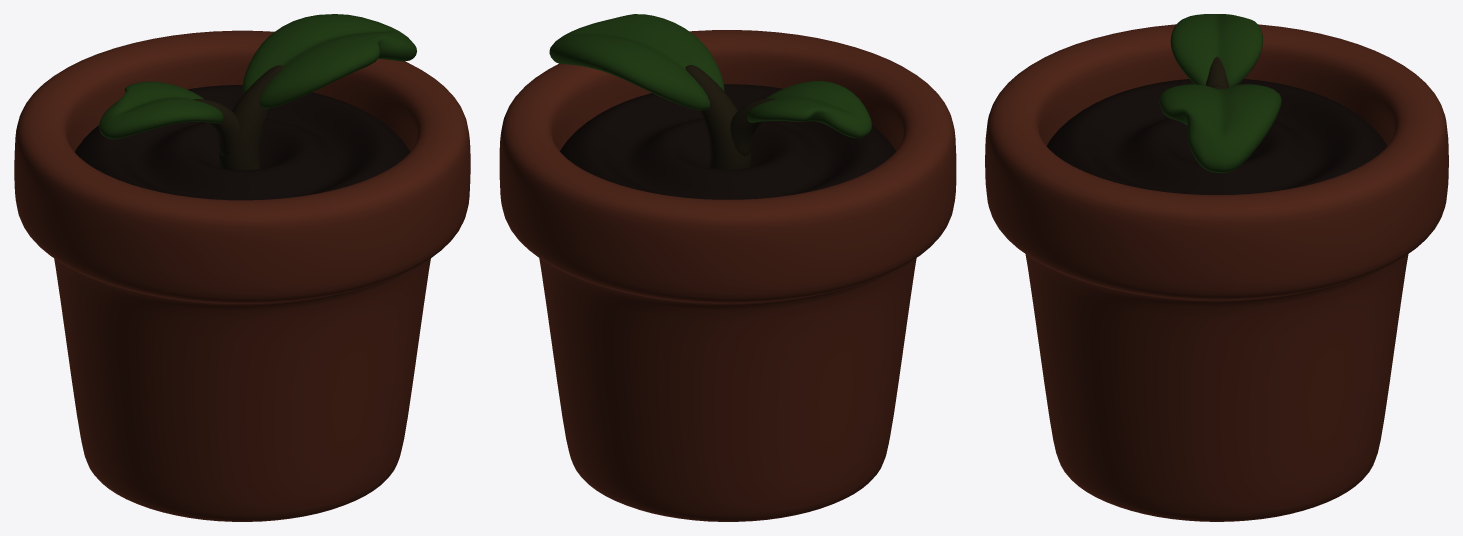
The model's file is Plant_Leafy_Sprout_Pot.obj.
The picture shows the model from 3 angles, left to right: view 1: azimuth 30°, elevation 25°; view 2: azimuth 150°, elevation 25°; view 3: azimuth 270°, elevation 25°; orthographic projection.
Parts seen in each view (by area): view 1: Plant_Leafy_Sprout_Pot_Body, Plant_Leafy_Sprout_Pot_Soil, Plant_Leafy_Sprout_Pot_Leaf01, Plant_Leafy_Sprout_Pot_Leaf02; view 2: Plant_Leafy_Sprout_Pot_Body, Plant_Leafy_Sprout_Pot_Soil, Plant_Leafy_Sprout_Pot_Leaf01, Plant_Leafy_Sprout_Pot_Leaf02; view 3: Plant_Leafy_Sprout_Pot_Body, Plant_Leafy_Sprout_Pot_Soil, Plant_Leafy_Sprout_Pot_Leaf01, Plant_Leafy_Sprout_Pot_Leaf02.
Part boxes in pixels (x1=…): Plant_Leafy_Sprout_Pot_Body: x1=14, y1=30, x2=470, y2=521; Plant_Leafy_Sprout_Pot_Soil: x1=75, y1=85, x2=409, y2=200; Plant_Leafy_Sprout_Pot_Leaf01: x1=219, y1=14, x2=416, y2=170; Plant_Leafy_Sprout_Pot_Leaf02: x1=99, y1=81, x2=239, y2=156; Plant_Leafy_Sprout_Pot_Body: x1=499, y1=30, x2=956, y2=521; Plant_Leafy_Sprout_Pot_Soil: x1=560, y1=84, x2=895, y2=199; Plant_Leafy_Sprout_Pot_Leaf01: x1=549, y1=14, x2=750, y2=169; Plant_Leafy_Sprout_Pot_Leaf02: x1=730, y1=81, x2=871, y2=156; Plant_Leafy_Sprout_Pot_Body: x1=985, y1=24, x2=1448, y2=521; Plant_Leafy_Sprout_Pot_Soil: x1=1046, y1=79, x2=1387, y2=195; Plant_Leafy_Sprout_Pot_Leaf01: x1=1158, y1=84, x2=1281, y2=173; Plant_Leafy_Sprout_Pot_Leaf02: x1=1170, y1=14, x2=1263, y2=88.
Bounding box in the file's own units: 1.31 × 1.29 × 1.31.
